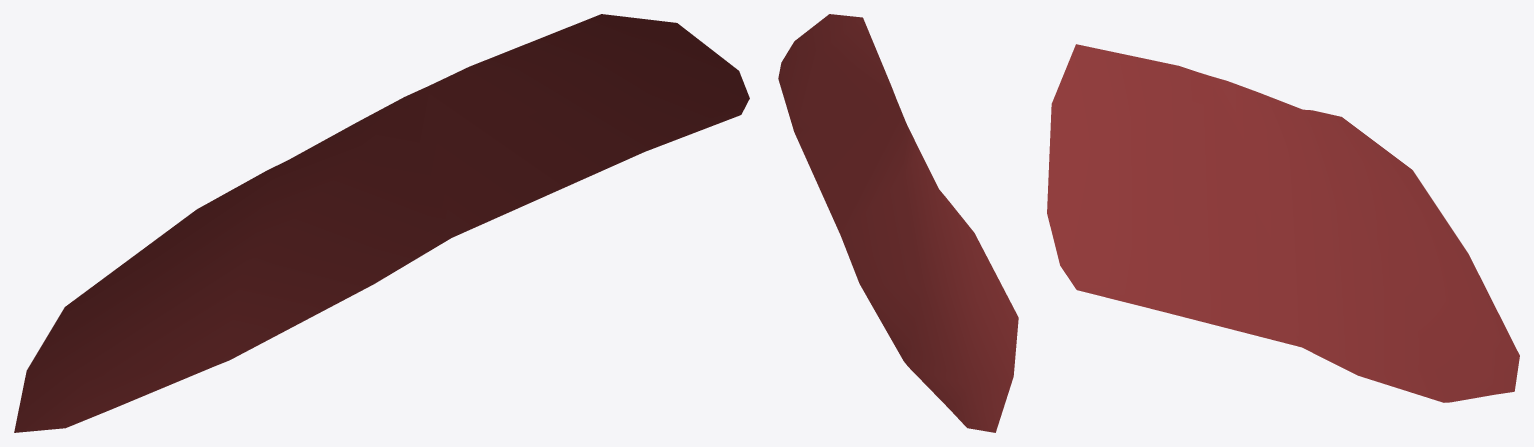
File: levatores-longi-costarum-e10r.glb
3 renders of one model, left to right at view 1: azimuth 30°, elevation 25°; view 2: azimuth 150°, elevation 25°; view 3: azimuth 270°, elevation 25°, orthographic. The views are drawn at different scales.
Parts seen in each view (by area): view 1: Levatores longi costarum.e10r; view 2: Levatores longi costarum.e10r; view 3: Levatores longi costarum.e10r.
Boxes of the visible parts, x1,y1,x2,y2 form: Levatores longi costarum.e10r: (14, 14, 749, 432); Levatores longi costarum.e10r: (778, 14, 1018, 432); Levatores longi costarum.e10r: (1047, 44, 1519, 402).
Size of the model in its own units: 0.00801 by 0.00637 by 0.00491.
